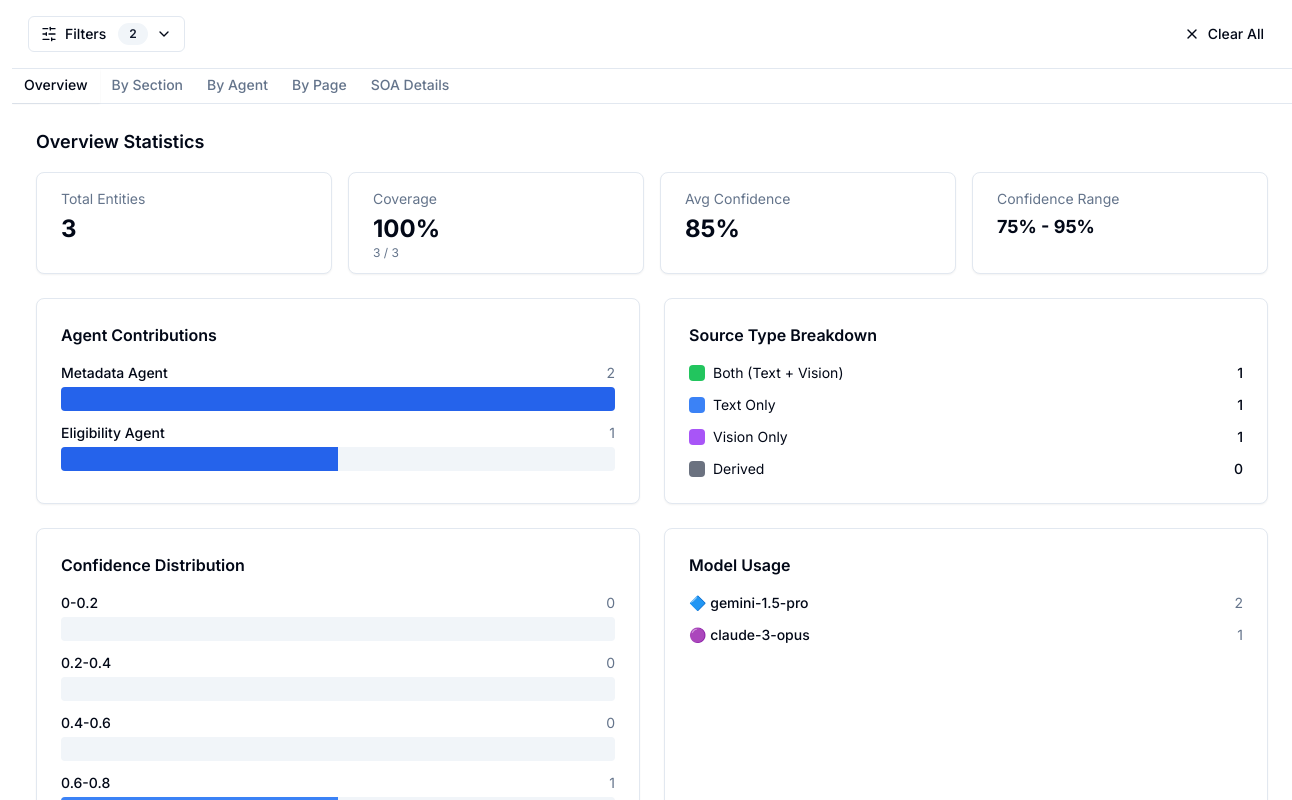
Test case: ProvenanceView - Global Filtering › should load filters from localStorage on mount
# Open filters
What coordinates should you click on to do the following:
click the button "Filters 2"
I would click on:
 (106, 34)
Its box is [28,16,185,52].
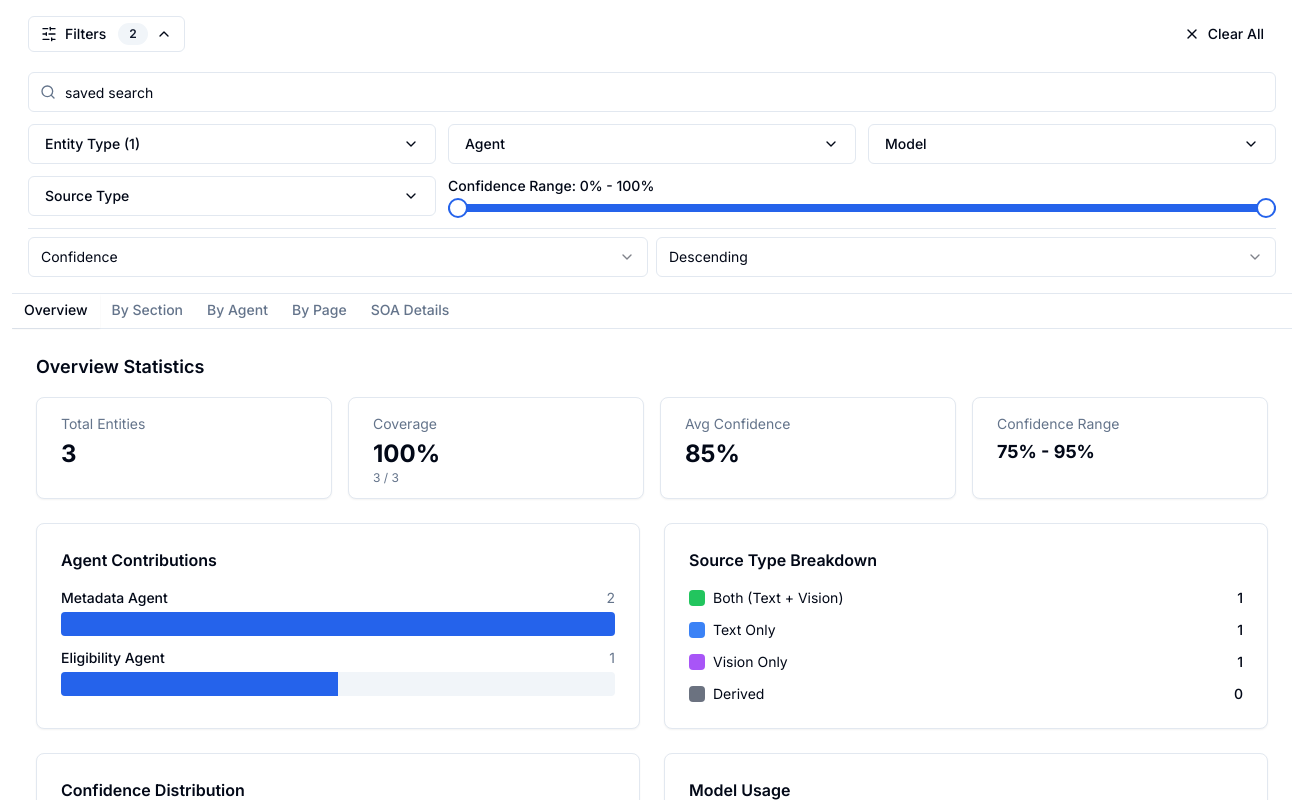
expect the field with placeholder "Search across all entities..." holds "saved search": met, box [28,72,1276,112]
